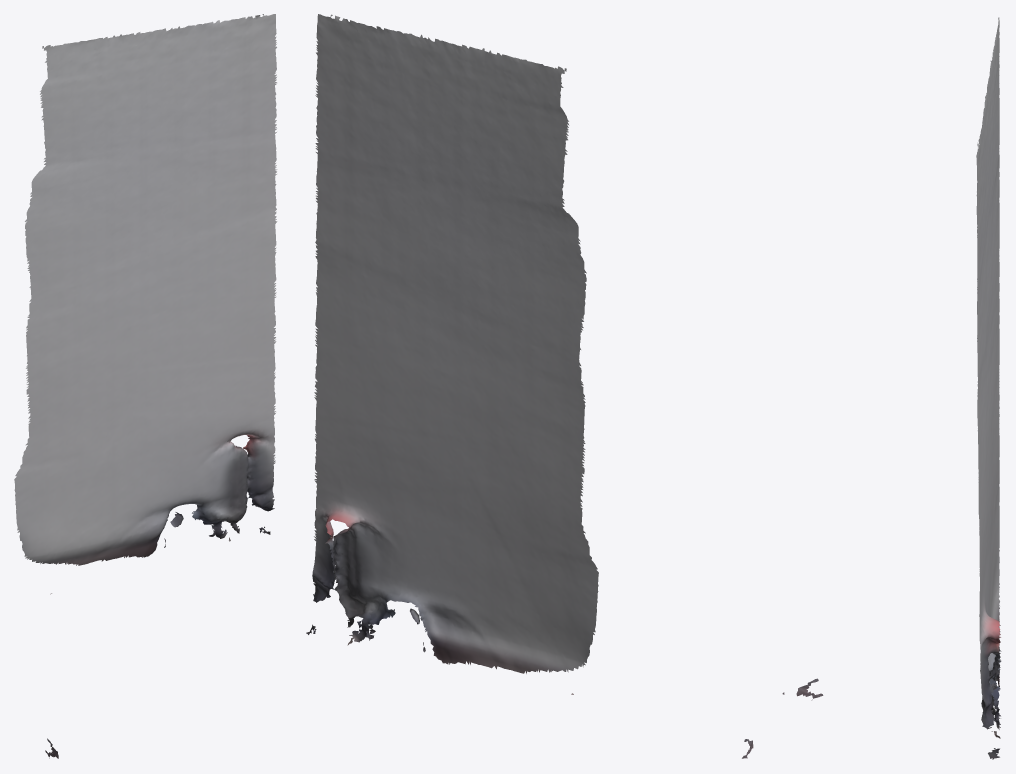
File: apartment-full-31-bb809d280cf2.glb
The picture shows the model from 3 angles, left to right: view 1: azimuth 30°, elevation 25°; view 2: azimuth 150°, elevation 25°; view 3: azimuth 270°, elevation 25°; orthographic projection. The views are drawn at different scales.
Size of the model in its own units: 1.11 by 2.25 by 0.614.
